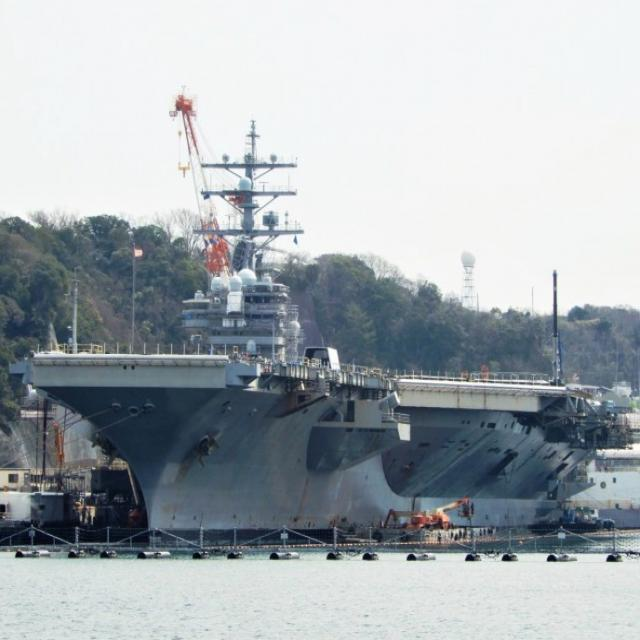Portanaves: (23, 105, 626, 553)
